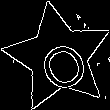O_NW: (27, 25, 89, 90)
